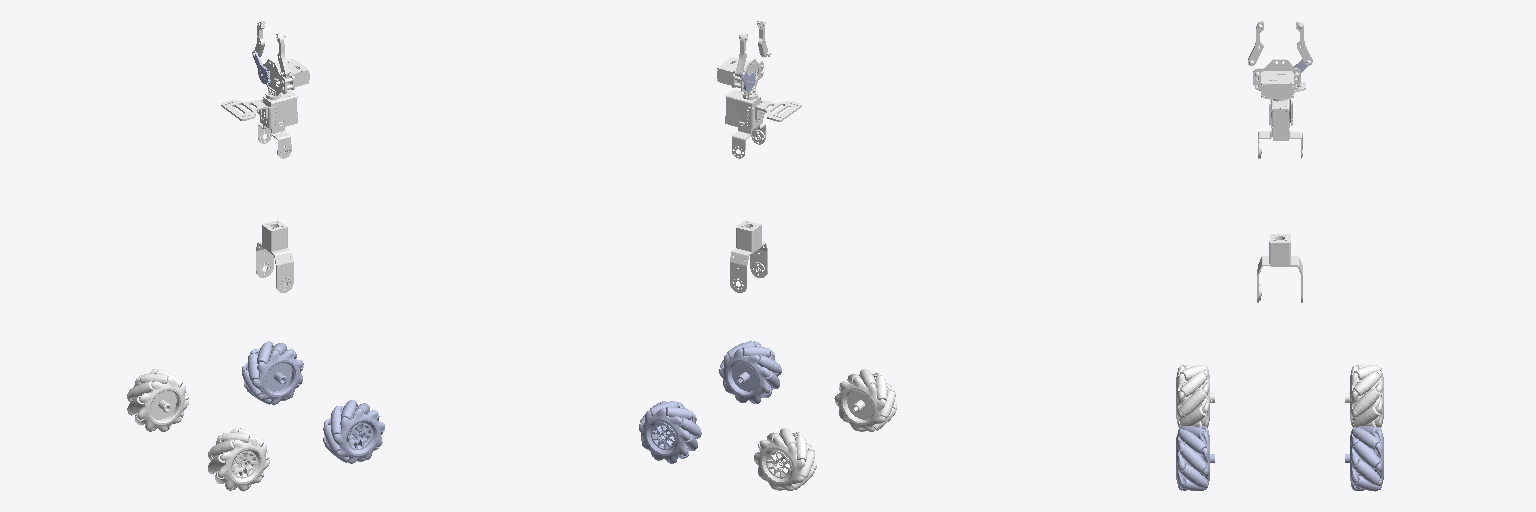
The robot description file, URDF, robot "arm_car":
<?xml version="1.0" encoding="utf-8"?>
<!-- This URDF was automatically created by SolidWorks to URDF Exporter! Originally created by Stephen Brawner (brawner@gmail.com) 
     Commit Version: 1.6.0-4-g7f85cfe  Build Version: 1.6.7995.38578
     For more information, please see http://wiki.ros.org/sw_urdf_exporter -->
<robot
  name="arm_car">
  <link
    name="base_link">
    <inertial>
      <origin
        xyz="0.00759386197431342 -1.60818081698655E-08 -0.0613385852600769"
        rpy="0 0 0" />
      <mass
        value="2.24934693844902" />
      <inertia
        ixx="0.000959170031237064"
        ixy="-2.66565872909367E-10"
        ixz="8.08919655194909E-08"
        iyy="0.00123899039630618"
        iyz="9.11524934277028E-11"
        izz="0.00182953578031719" />
    </inertial>
    <visual>
      <origin
        xyz="0 0 0"
        rpy="0 0 0" />
      <geometry>
        <mesh
          filename="package://pi5_robot_description/meshes/base_link.STL" />
      </geometry>
      <material
        name="">
        <color
          rgba="0.647058823529412 0.647058823529412 0.647058823529412 1" />
      </material>
    </visual>
    <collision>
      <origin
        xyz="0 0 0"
        rpy="0 0 0" />
      <geometry>
        <mesh
          filename="package://pi5_robot_description/meshes/base_link.STL" />
      </geometry>
    </collision>
  </link>
  <link
    name="lfw">
    <inertial>
      <origin
        xyz="-3.66809811275237E-07 0.0153515560907876 2.31527231921158E-07"
        rpy="0 0 0" />
      <mass
        value="0.149178036197559" />
      <inertia
        ixx="6.83939054609557E-05"
        ixy="-4.26801936755136E-10"
        ixz="-1.52198544985426E-09"
        iyy="0.000109192443707379"
        iyz="2.25443212622955E-10"
        izz="6.83930923619236E-05" />
    </inertial>
    <visual>
      <origin
        xyz="0 0 0"
        rpy="0 0 0" />
      <geometry>
        <mesh
          filename="package://pi5_robot_description/meshes/lfw.STL" />
      </geometry>
      <material
        name="">
        <color
          rgba="0.792156862745098 0.819607843137255 0.933333333333333 1" />
      </material>
    </visual>
    <collision>
      <origin
        xyz="0 0 0"
        rpy="0 0 0" />
      <geometry>
        <mesh
          filename="package://pi5_robot_description/meshes/lfw.STL" />
      </geometry>
    </collision>
  </link>
  <joint
    name="lfj"
    type="continuous">
    <origin
      xyz="0.0885 0.091 -0.083"
      rpy="0 0 0" />
    <parent
      link="base_link" />
    <child
      link="lfw" />
    <axis
      xyz="0 1 0" />
  </joint>
  <link
    name="lbw">
    <inertial>
      <origin
        xyz="2.35969805750802E-07 0.0153513811089629 -3.48555722735899E-07"
        rpy="0 0 0" />
      <mass
        value="0.149175041852939" />
      <inertia
        ixx="6.83915025795889E-05"
        ixy="4.91820832920551E-10"
        ixz="-2.94588237474748E-10"
        iyy="0.000109187738802995"
        iyz="-6.21546525634477E-10"
        izz="6.83914587648714E-05" />
    </inertial>
    <visual>
      <origin
        xyz="0 0 0"
        rpy="0 0 0" />
      <geometry>
        <mesh
          filename="package://pi5_robot_description/meshes/lbw.STL" />
      </geometry>
      <material
        name="">
        <color
          rgba="1 1 1 1" />
      </material>
    </visual>
    <collision>
      <origin
        xyz="0 0 0"
        rpy="0 0 0" />
      <geometry>
        <mesh
          filename="package://pi5_robot_description/meshes/lbw.STL" />
      </geometry>
    </collision>
  </link>
  <joint
    name="lbj"
    type="continuous">
    <origin
      xyz="-0.0865 0.091 -0.083"
      rpy="0 0 0" />
    <parent
      link="base_link" />
    <child
      link="lbw" />
    <axis
      xyz="0 1 0" />
  </joint>
  <link
    name="rbw">
    <inertial>
      <origin
        xyz="-4.34459379972107E-07 -0.0153513817633611 9.45260151402616E-08"
        rpy="0 0 0" />
      <mass
        value="0.14917506139308" />
      <inertia
        ixx="6.83916861725299E-05"
        ixy="7.82747852831705E-10"
        ixz="-2.1686035991914E-10"
        iyy="0.000109187742667161"
        iyz="-1.81158300426202E-10"
        izz="6.8391285928065E-05" />
    </inertial>
    <visual>
      <origin
        xyz="0 0 0"
        rpy="0 0 0" />
      <geometry>
        <mesh
          filename="package://pi5_robot_description/meshes/rbw.STL" />
      </geometry>
      <material
        name="">
        <color
          rgba="1 1 1 1" />
      </material>
    </visual>
    <collision>
      <origin
        xyz="0 0 0"
        rpy="0 0 0" />
      <geometry>
        <mesh
          filename="package://pi5_robot_description/meshes/rbw.STL" />
      </geometry>
    </collision>
  </link>
  <joint
    name="rbj"
    type="continuous">
    <origin
      xyz="-0.0865 -0.091 -0.083"
      rpy="0 0 0" />
    <parent
      link="base_link" />
    <child
      link="rbw" />
    <axis
      xyz="0 -1 0" />
  </joint>
  <link
    name="rfw">
    <inertial>
      <origin
        xyz="-1.61640428271437E-07 -0.0153515571887059 4.11877596834254E-07"
        rpy="0 0 0" />
      <mass
        value="0.149178040834277" />
      <inertia
        ixx="6.83925029996859E-05"
        ixy="1.18740199297749E-10"
        ixz="-1.19604624980621E-09"
        iyy="0.000109192439753589"
        iyz="-4.83704324395177E-10"
        izz="6.83944919670032E-05" />
    </inertial>
    <visual>
      <origin
        xyz="0 0 0"
        rpy="0 0 0" />
      <geometry>
        <mesh
          filename="package://pi5_robot_description/meshes/rfw.STL" />
      </geometry>
      <material
        name="">
        <color
          rgba="0.792156862745098 0.819607843137255 0.933333333333333 1" />
      </material>
    </visual>
    <collision>
      <origin
        xyz="0 0 0"
        rpy="0 0 0" />
      <geometry>
        <mesh
          filename="package://pi5_robot_description/meshes/rfw.STL" />
      </geometry>
    </collision>
  </link>
  <joint
    name="rfj"
    type="continuous">
    <origin
      xyz="0.0885 -0.091 -0.083"
      rpy="0 0 0" />
    <parent
      link="base_link" />
    <child
      link="rfw" />
    <axis
      xyz="0 -1 0" />
  </joint>
  <link
    name="link1">
    <inertial>
      <origin
        xyz="0 0 0"
        rpy="0 0 0" />
      <mass
        value="0" />
      <inertia
        ixx="0"
        ixy="0"
        ixz="0"
        iyy="0"
        iyz="0"
        izz="0" />
    </inertial>
    <visual>
      <origin
        xyz="0 0 0"
        rpy="0 0 0" />
      <geometry>
        <mesh
          filename="package://pi5_robot_description/meshes/link1.STL" />
      </geometry>
      <material
        name="">
        <color
          rgba="1 1 1 1" />
      </material>
    </visual>
    <collision>
      <origin
        xyz="0 0 0"
        rpy="0 0 0" />
      <geometry>
        <mesh
          filename="package://pi5_robot_description/meshes/link1.STL" />
      </geometry>
    </collision>
  </link>
  <joint
    name="joint1"
    type="revolute">
    <origin
      xyz="0.030002 0 0.061"
      rpy="0 0 0" />
    <parent
      link="base_link" />
    <child
      link="link1" />
    <axis
      xyz="0 0 1" />
    <limit
      lower="-2.5"
      upper="2.5"
      effort="1.96"
      velocity="3.14" />
  </joint>
  <link
    name="link2">
    <inertial>
      <origin
        xyz="0.00015064 0.046235 -0.025445"
        rpy="0 0 0" />
      <mass
        value="0.02373" />
      <inertia
        ixx="8.1431E-06"
        ixy="1.4394E-21"
        ixz="-1.8827E-21"
        iyy="6.3574E-06"
        iyz="-5.0402E-20"
        izz="4.754E-06" />
    </inertial>
    <visual>
      <origin
        xyz="0 0 0"
        rpy="0 0 0" />
      <geometry>
        <mesh
          filename="package://pi5_robot_description/meshes/link2.STL" />
      </geometry>
      <material
        name="">
        <color
          rgba="1 1 1 1" />
      </material>
    </visual>
    <collision>
      <origin
        xyz="0 0 0"
        rpy="0 0 0" />
      <geometry>
        <mesh
          filename="package://pi5_robot_description/meshes/link2.STL" />
      </geometry>
    </collision>
  </link>
  <joint
    name="joint2"
    type="revolute">
    <origin
      xyz="-0.00030442 -0.025998 0.052401"
      rpy="1.5708 0 -0.0073705" />
    <parent
      link="link1" />
    <child
      link="link2" />
    <axis
      xyz="0 0 1" />
    <limit
      lower="-1.7"
      upper="1.7"
      effort="1.96"
      velocity="3.14" />
  </joint>
  <link
    name="link3">
    <inertial>
      <origin
        xyz="-0.000846198773647021 -0.0426438100499727 0.0256581432648642"
        rpy="0 0 0" />
      <mass
        value="0.0739910116221332" />
      <inertia
        ixx="2.36628775695945E-05"
        ixy="-2.95266860477663E-10"
        ixz="-8.76799121000706E-16"
        iyy="1.42532367935571E-05"
        iyz="1.40758212397431E-12"
        izz="1.44522741548222E-05" />
    </inertial>
    <visual>
      <origin
        xyz="0 0 0"
        rpy="0 0 0" />
      <geometry>
        <mesh
          filename="package://pi5_robot_description/meshes/link3.STL" />
      </geometry>
      <material
        name="">
        <color
          rgba="1 1 1 1" />
      </material>
    </visual>
    <collision>
      <origin
        xyz="0 0 0"
        rpy="0 0 0" />
      <geometry>
        <mesh
          filename="package://pi5_robot_description/meshes/link3.STL" />
      </geometry>
    </collision>
  </link>
  <joint
    name="joint3"
    type="revolute">
    <origin
      xyz="0.00031113 0.10527 2.1364E-05"
      rpy="3.1416 0 0" />
    <parent
      link="link2" />
    <child
      link="link3" />
    <axis
      xyz="0 0 1" />
    <limit
      lower="-2.5"
      upper="2.5"
      effort="1.96"
      velocity="3.14" />
  </joint>
  <link
    name="link4">
    <inertial>
      <origin
        xyz="0.00118251946167684 0.0459939005091535 -0.0263028627041846"
        rpy="0 0 0" />
      <mass
        value="0.0465954575037121" />
      <inertia
        ixx="1.22289034434654E-05"
        ixy="-2.35694408212891E-07"
        ixz="9.86781380371103E-08"
        iyy="1.04329117561629E-05"
        iyz="2.15494079326588E-09"
        izz="1.44283421403718E-05" />
    </inertial>
    <visual>
      <origin
        xyz="0 0 0"
        rpy="0 0 0" />
      <geometry>
        <mesh
          filename="package://pi5_robot_description/meshes/link4.STL" />
      </geometry>
      <material
        name="">
        <color
          rgba="1 1 1 1" />
      </material>
    </visual>
    <collision>
      <origin
        xyz="0 0 0"
        rpy="0 0 0" />
      <geometry>
        <mesh
          filename="package://pi5_robot_description/meshes/link4.STL" />
      </geometry>
    </collision>
  </link>
  <joint
    name="joint4"
    type="revolute">
    <origin
      xyz="-0.00022559 -0.086162 0"
      rpy="-3.1416 0 0" />
    <parent
      link="link3" />
    <child
      link="link4" />
    <axis
      xyz="0 0 1" />
    <limit
      lower="-2.5"
      upper="2.5"
      effort="1.96"
      velocity="3.14" />
  </joint>
  <link
    name="link5">
    <inertial>
      <origin
        xyz="0.0182700077944121 -0.00308018445869763 0.0237844714273773"
        rpy="0 0 0" />
      <mass
        value="0.0384816371083352" />
      <inertia
        ixx="6.75172578039357E-06"
        ixy="-5.14855511160552E-08"
        ixz="8.28543119969111E-11"
        iyy="5.80090716659153E-06"
        iyz="2.69315322816852E-10"
        izz="9.48040244004794E-06" />
    </inertial>
    <visual>
      <origin
        xyz="0 0 0"
        rpy="0 0 0" />
      <geometry>
        <mesh
          filename="package://pi5_robot_description/meshes/link5.STL" />
      </geometry>
      <material
        name="">
        <color
          rgba="1 1 1 1" />
      </material>
    </visual>
    <collision>
      <origin
        xyz="0 0 0"
        rpy="0 0 0" />
      <geometry>
        <mesh
          filename="package://pi5_robot_description/meshes/link5.STL" />
      </geometry>
    </collision>
  </link>
  <joint
    name="joint5"
    type="revolute">
    <origin
      xyz="-0.0020798 0.072064 -0.02625"
      rpy="-1.5708 0 0.031052" />
    <parent
      link="link4" />
    <child
      link="link5" />
    <axis
      xyz="0 0 1" />
    <limit
      lower="-2.5"
      upper="2.5"
      effort="1.96"
      velocity="3.14" />
  </joint>
  <link
    name="link6_r">
    <inertial>
      <origin
        xyz="-0.00225277630224294 0.00431568735406512 -0.00108958454489374"
        rpy="0 0 0" />
      <mass
        value="0.00272937769015016" />
      <inertia
        ixx="2.56904566805748E-07"
        ixy="1.13894594728558E-07"
        ixz="5.65175871853217E-09"
        iyy="1.64590046981668E-07"
        iyz="-5.25218498588233E-09"
        izz="4.1666631643561E-07" />
    </inertial>
    <visual>
      <origin
        xyz="0 0 0"
        rpy="0 0 0" />
      <geometry>
        <mesh
          filename="package://pi5_robot_description/meshes/link6_r.STL" />
      </geometry>
      <material
        name="">
        <color
          rgba="1 1 1 1" />
      </material>
    </visual>
    <collision>
      <origin
        xyz="0 0 0"
        rpy="0 0 0" />
      <geometry>
        <mesh
          filename="package://pi5_robot_description/meshes/link6_r.STL" />
      </geometry>
    </collision>
  </link>
  <joint
    name="joint6_r"
    type="revolute">
    <origin
      xyz="-0.0030667 -0.014003 0.025156"
      rpy="1.5708 -0.23309 1.5708" />
    <parent
      link="link5" />
    <child
      link="link6_r" />
    <axis
      xyz="0 0 1" />
    <limit
      lower="-1"
      upper="1"
      effort="1.96"
      velocity="3.14" />
  </joint>
  <link
    name="link7_r">
    <inertial>
      <origin
        xyz="0.00627969909175661 -0.0209128000248698 -0.00697447876082605"
        rpy="0 0 0" />
      <mass
        value="0.00309763757394028" />
      <inertia
        ixx="7.21936337985926E-07"
        ixy="1.41281539456659E-07"
        ixz="-3.38997917133575E-16"
        iyy="6.93112713175571E-08"
        iyz="9.01211914596464E-17"
        izz="7.64323746538838E-07" />
    </inertial>
    <visual>
      <origin
        xyz="0 0 0"
        rpy="0 0 0" />
      <geometry>
        <mesh
          filename="package://pi5_robot_description/meshes/link7_r.STL" />
      </geometry>
      <material
        name="">
        <color
          rgba="1 1 1 1" />
      </material>
    </visual>
    <collision>
      <origin
        xyz="0 0 0"
        rpy="0 0 0" />
      <geometry>
        <mesh
          filename="package://pi5_robot_description/meshes/link7_r.STL" />
      </geometry>
    </collision>
  </link>
  <joint
    name="joint7_r"
    type="revolute">
    <origin
      xyz="-0.015628 0.025458 -0.0037472"
      rpy="-3.1416 0.031052 -0.23309" />
    <parent
      link="link6_r" />
    <child
      link="link7_r" />
    <axis
      xyz="0 0 1" />
    <limit
      lower="-1"
      upper="1"
      effort="1.96"
      velocity="3.14" />
    <mimic
      joint="joint6_r"
      multiplier="1"
      offset="0" />
  </joint>
  <link
    name="link8_r">
    <inertial>
      <origin
        xyz="-0.00838739408990995 0.0136712753448239 0.00458501836359205"
        rpy="0 0 0" />
      <mass
        value="0.000743480445208501" />
      <inertia
        ixx="4.61046126375624E-08"
        ixy="2.31440681398751E-08"
        ixz="4.10199739723215E-10"
        iyy="2.32543238906776E-08"
        iyz="-9.21362358516884E-10"
        izz="5.41640750174382E-08" />
    </inertial>
    <visual>
      <origin
        xyz="0 0 0"
        rpy="0 0 0" />
      <geometry>
        <mesh
          filename="package://pi5_robot_description/meshes/link8_r.STL" />
      </geometry>
      <material
        name="">
        <color
          rgba="1 1 1 1" />
      </material>
    </visual>
    <collision>
      <origin
        xyz="0 0 0"
        rpy="0 0 0" />
      <geometry>
        <mesh
          filename="package://pi5_robot_description/meshes/link8_r.STL" />
      </geometry>
    </collision>
  </link>
  <joint
    name="joint8_r"
    type="revolute">
    <origin
      xyz="-0.007772 -0.0042433 0.045"
      rpy="1.5708 -0.23309 1.5708" />
    <parent
      link="link5" />
    <child
      link="link8_r" />
    <axis
      xyz="0 0 1" />
    <limit
      lower="-1"
      upper="1"
      effort="1.96"
      velocity="3.14" />
    <mimic
      joint="joint6_r"
      multiplier="1"
      offset="0" />
  </joint>
  <link
    name="link9_l">
    <inertial>
      <origin
        xyz="0.00402796594496122 -0.0046736228704804 -0.00567194702285925"
        rpy="0 0 0" />
      <mass
        value="0.00223915294191889" />
      <inertia
        ixx="1.88268447257933E-07"
        ixy="1.25478469250389E-07"
        ixz="-1.51997596691856E-16"
        iyy="2.07523408531225E-07"
        iyz="1.6022272157422E-16"
        izz="3.87671871229786E-07" />
    </inertial>
    <visual>
      <origin
        xyz="0 0 0"
        rpy="0 0 0" />
      <geometry>
        <mesh
          filename="package://pi5_robot_description/meshes/link9_l.STL" />
      </geometry>
      <material
        name="">
        <color
          rgba="0.792156862745098 0.819607843137255 0.933333333333333 1" />
      </material>
    </visual>
    <collision>
      <origin
        xyz="0 0 0"
        rpy="0 0 0" />
      <geometry>
        <mesh
          filename="package://pi5_robot_description/meshes/link9_l.STL" />
      </geometry>
    </collision>
  </link>
  <joint
    name="joint9_l"
    type="revolute">
    <origin
      xyz="-0.011422 0.013402 0.025"
      rpy="-1.5708 0 1.6018" />
    <parent
      link="link5" />
    <child
      link="link9_l" />
    <axis
      xyz="0 0 1" />
    <limit
      lower="-1"
      upper="1"
      effort="1.96"
      velocity="3.14" />
    <mimic
      joint="joint6_r"
      multiplier="1"
      offset="0" />
  </joint>
  <link
    name="link10_l">
    <inertial>
      <origin
        xyz="-0.0060601364343241 0.0209128000472325 0.00716608134569278"
        rpy="0 0 0" />
      <mass
        value="0.0030976375735952" />
      <inertia
        ixx="7.21977212463505E-07"
        ixy="1.41213491896946E-07"
        ixz="1.31535990033743E-09"
        iyy="6.93112542760682E-08"
        iyz="-4.38634574630765E-09"
        izz="7.64282889081829E-07" />
    </inertial>
    <visual>
      <origin
        xyz="0 0 0"
        rpy="0 0 0" />
      <geometry>
        <mesh
          filename="package://pi5_robot_description/meshes/link10_l.STL" />
      </geometry>
      <material
        name="">
        <color
          rgba="1 1 1 1" />
      </material>
    </visual>
    <collision>
      <origin
        xyz="0 0 0"
        rpy="0 0 0" />
      <geometry>
        <mesh
          filename="package://pi5_robot_description/meshes/link10_l.STL" />
      </geometry>
    </collision>
  </link>
  <joint
    name="joint10_l"
    type="revolute">
    <origin
      xyz="0.021111 -0.021315 -0.0031"
      rpy="3.1416 0.031052 0" />
    <parent
      link="link9_l" />
    <child
      link="link10_l" />
    <axis
      xyz="0 0 1" />
    <limit
      lower="-1"
      upper="1"
      effort="1.96"
      velocity="3.14" />
    <mimic
      joint="joint6_r"
      multiplier="1"
      offset="0" />
  </joint>
  <link
    name="link11_l">
    <inertial>
      <origin
        xyz="0.00986422531863041 -0.00978579001132429 -0.00471126478496128"
        rpy="0 0 0" />
      <mass
        value="0.000863402786049133" />
      <inertia
        ixx="3.48677412905465E-08"
        ixy="2.58221530327634E-08"
        ixz="-4.92624428496181E-16"
        iyy="3.52800385482673E-08"
        iyz="1.43708113170567E-16"
        izz="5.48211554780308E-08" />
    </inertial>
    <visual>
      <origin
        xyz="0 0 0"
        rpy="0 0 0" />
      <geometry>
        <mesh
          filename="package://pi5_robot_description/meshes/link11_l.STL" />
      </geometry>
      <material
        name="">
        <color
          rgba="1 1 1 1" />
      </material>
    </visual>
    <collision>
      <origin
        xyz="0 0 0"
        rpy="0 0 0" />
      <geometry>
        <mesh
          filename="package://pi5_robot_description/meshes/link11_l.STL" />
      </geometry>
    </collision>
  </link>
  <joint
    name="joint11_l"
    type="revolute">
    <origin
      xyz="-0.0080204 0.0037528 0.045"
      rpy="-1.5708 0 1.6018" />
    <parent
      link="link5" />
    <child
      link="link11_l" />
    <axis
      xyz="0 0 1" />
    <limit
      lower="-1"
      upper="1"
      effort="1.96"
      velocity="3.14" />
    <mimic
      joint="joint6_r"
      multiplier="1"
      offset="0" />
  </joint>

  <!-- ============================================ -->
  <!--  base_footprint (Nav2 需要的虚拟根 link)      -->
  <!-- ============================================ -->
  <link name="base_footprint" />

  <joint name="base_footprint_joint" type="fixed">
    <parent link="base_footprint" />
    <child link="base_link" />
    <origin xyz="0 0 0.043" rpy="0 0 0" />
  </joint>

  <!-- ============================================ -->
  <!--  激光雷达 (Lidar)                             -->
  <!-- ============================================ -->
  <!-- Laser position measured from base_link: x=106.6mm y=0 z=20.75mm -->
  <link name="laser_link" />

  <joint name="laser_joint" type="fixed">
    <parent link="base_link" />
    <child link="laser_link" />
    <origin xyz="0.1066 0 0.02075" rpy="0 0 -1.5708" />
  </joint>

  <!-- ============================================ -->
  <!--  深度相机 (Aurora 930) - 眼在手上             -->
  <!-- ============================================ -->
  <!-- Aurora 驱动发布的 depth/image_raw 和点云数据均为光学坐标系:
       X=右, Y=下, Z=前(光轴/深度方向)
       驱动使用 frame_id = depth_camera_link
       因此 depth_camera_link 必须直接定义为光学帧 -->

  <link name="depth_camera_link" />

  <!-- 相机物理安装: 光轴朝向 link5 的 +Z 方向 -->
  <!-- Aurora 驱动数据在光学帧(X=右,Y=下,Z=前), frame_id=depth_camera_link -->
  <!-- rpy="0 0 0" 时光轴朝前(正确), 但图像倒置(光学Y≠机器人Z) -->
  <!-- 绕光轴转180°(rpy="0 0 π")翻转Y轴使图像正立 -->
  <!-- 注: 此旋转会水平镜像(X→-X), 但对SLAM点云几何精度无影响 -->
  <joint name="depth_camera_joint" type="fixed">
    <parent link="link5" />
    <child link="depth_camera_link" />
    <origin xyz="-0.05 0 0.02" rpy="-0.144 -1.500 -2.886" />
  </joint>

  <!-- rgb_camera_link 由 Aurora 驱动通过静态 TF 发布 (depth_camera_link → rgb_camera_link) -->
  <!-- URDF 中无需定义, 避免 TF 冲突 -->
</robot>

--- Facts derived from the render (not from the file) ---
The picture shows the robot from 3 angles, left to right: view 1: azimuth 30°, elevation 25°; view 2: azimuth 150°, elevation 25°; view 3: azimuth 270°, elevation 25°; orthographic projection.
Model arm_car with 19 links and 18 joints (11 revolute, 4 continuous, 3 fixed), rooted at base_footprint, posed all joints at 0.
Links seen in each view (by area): view 1: rbw, lfw, rfw, lbw, link4, link2, link5; view 2: lbw, lfw, rfw, rbw, link4, link2, link5; view 3: lfw, rfw, lbw, rbw, link5, link4, link2.
Boxes of the visible links, left/top/right/bottom form: rbw: left=208, top=428, right=269, bottom=491; lfw: left=242, top=341, right=303, bottom=404; rfw: left=323, top=400, right=384, bottom=463; lbw: left=127, top=369, right=188, bottom=431; link4: left=221, top=90, right=297, bottom=158; link2: left=256, top=220, right=293, bottom=292; link5: left=263, top=59, right=309, bottom=99; lbw: left=754, top=428, right=816, bottom=490; lfw: left=639, top=401, right=701, bottom=463; rfw: left=719, top=341, right=781, bottom=403; rbw: left=834, top=369, right=896, bottom=431; link4: left=725, top=90, right=801, bottom=158; link2: left=730, top=220, right=767, bottom=292; link5: left=717, top=57, right=763, bottom=99; lfw: left=1345, top=426, right=1383, bottom=491; rfw: left=1176, top=426, right=1214, bottom=490; lbw: left=1345, top=365, right=1383, bottom=427; rbw: left=1176, top=365, right=1214, bottom=427; link5: left=1253, top=59, right=1300, bottom=100; link4: left=1258, top=82, right=1305, bottom=158; link2: left=1257, top=234, right=1302, bottom=302.
Size in the robot's own frame: 0.2555 by 0.253 by 0.5992 metres.
Meshes: 16 distinct files referenced, 10 mesh visuals loaded (10 binary STL); not drawn: 6 (file found but could not be loaded).
